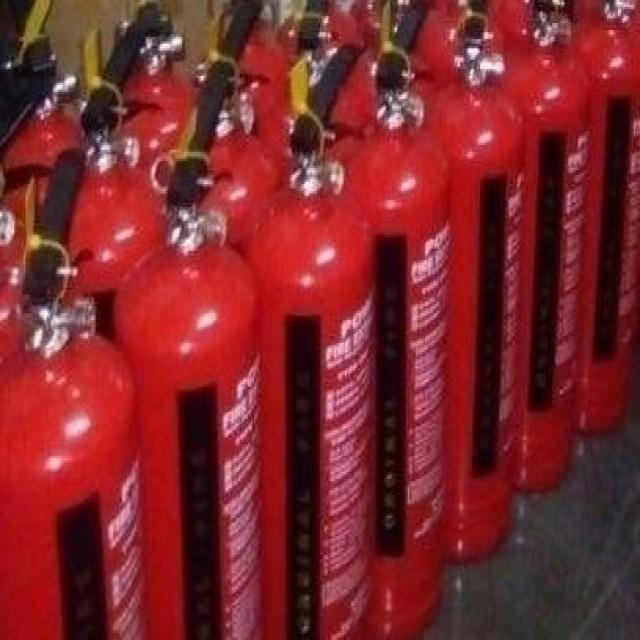fire_extinguisher: (89, 69, 270, 638), (225, 35, 376, 638), (322, 0, 448, 638), (79, 0, 208, 599), (47, 12, 165, 638), (0, 142, 146, 638), (170, 0, 282, 638), (378, 0, 512, 497), (408, 0, 522, 576), (0, 25, 89, 623), (485, 0, 577, 500), (546, 0, 638, 442)
